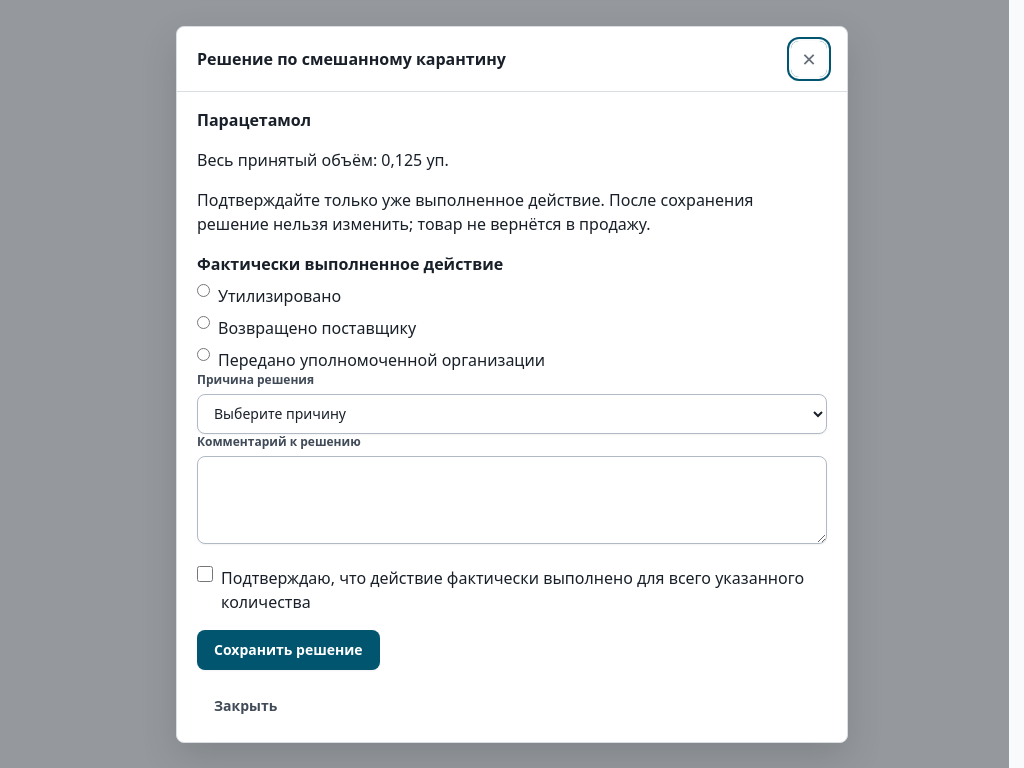
mixed disposition confirmation form › requires explicit whole-row confirmation and sends exact normalized input and minimal reviewed snapshot
Expected: the text "Весь принятый объём: 0,125 уп." is shown, [197,148,449,170]
Click the radio button labelled "Утилизировано" at (204, 290), box [197,284,210,296]
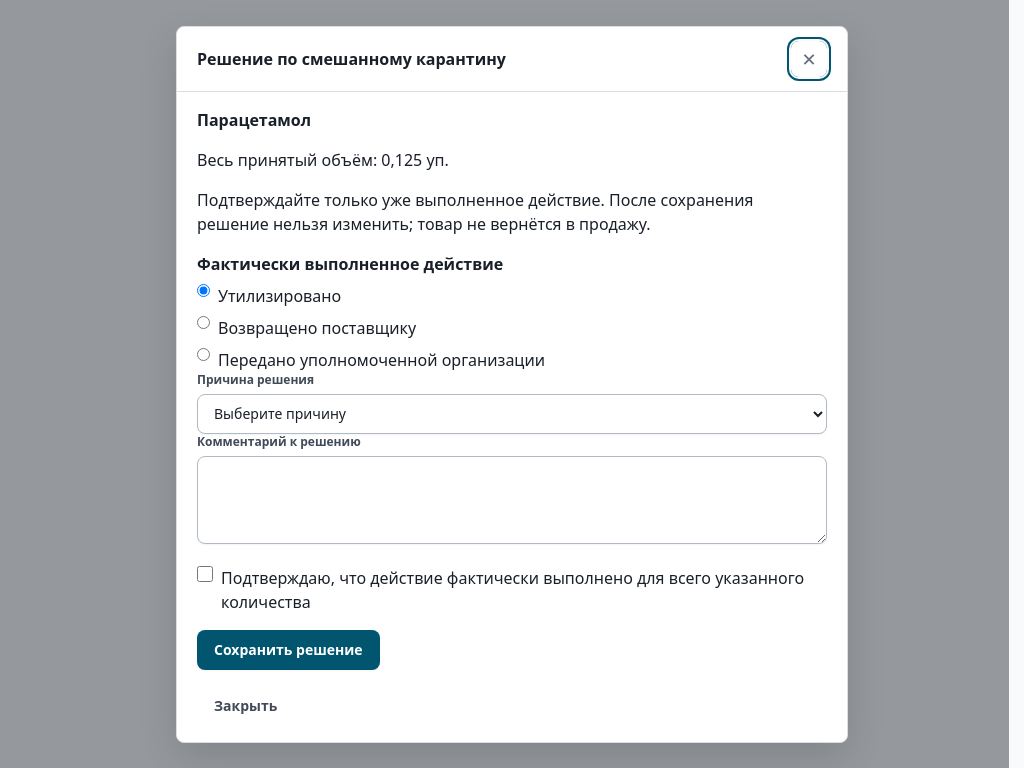
Select "Повреждение" in the dropdown labelled "Причина решения" at (512, 414), box [197,394,827,434]
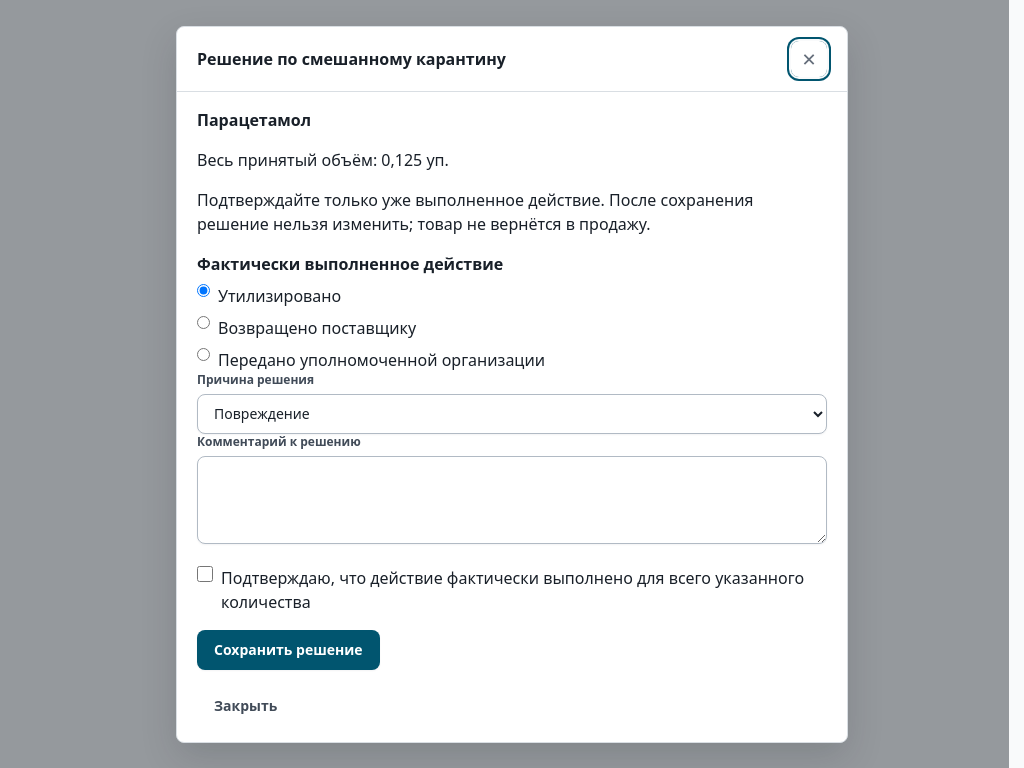
Type "  Фактически выполнено  " into the text box labelled "Комментарий к решению" at (512, 500), box [197,456,827,544]
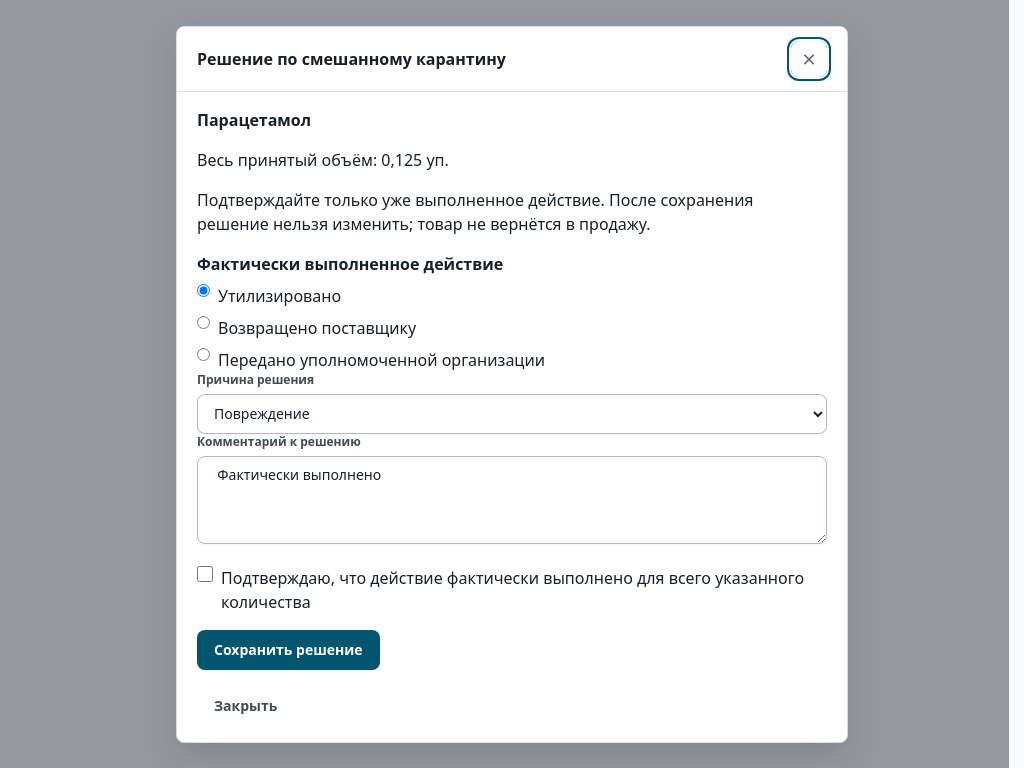
Click the button "Сохранить решение" at (288, 650), box [197,630,380,670]
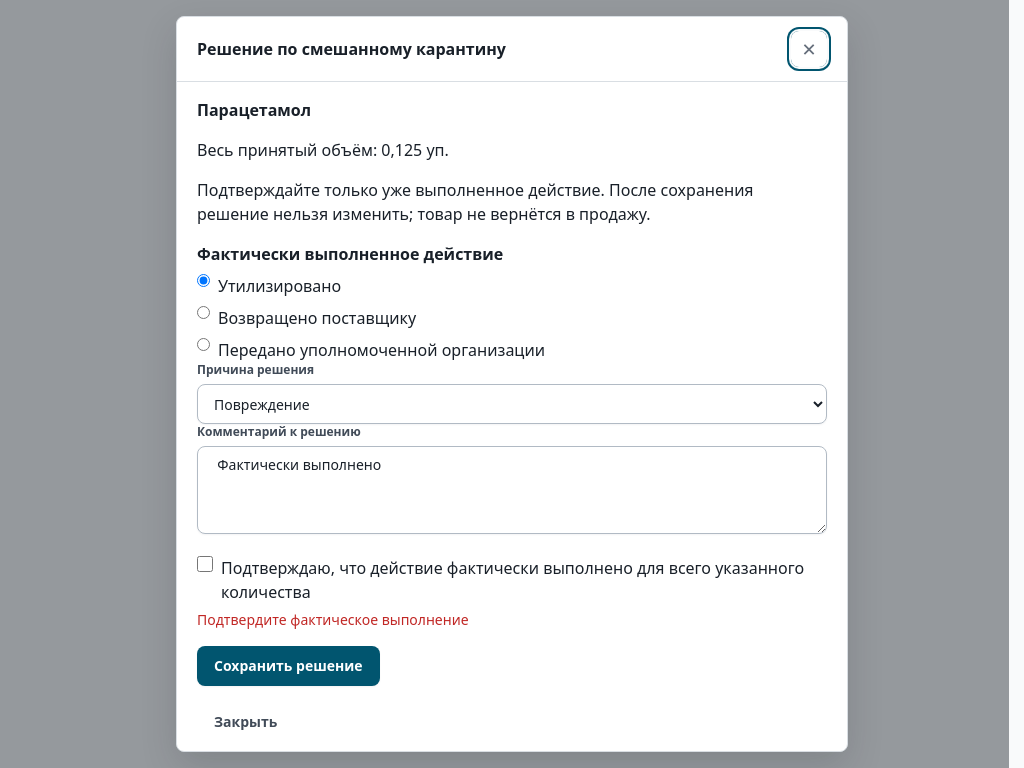
Expected: the text "Подтвердите фактическое выполнение" is shown, [197,610,469,629]
Click the checkbox labelled "Подтверждаю, что действие" at (205, 564), box [197,556,213,572]
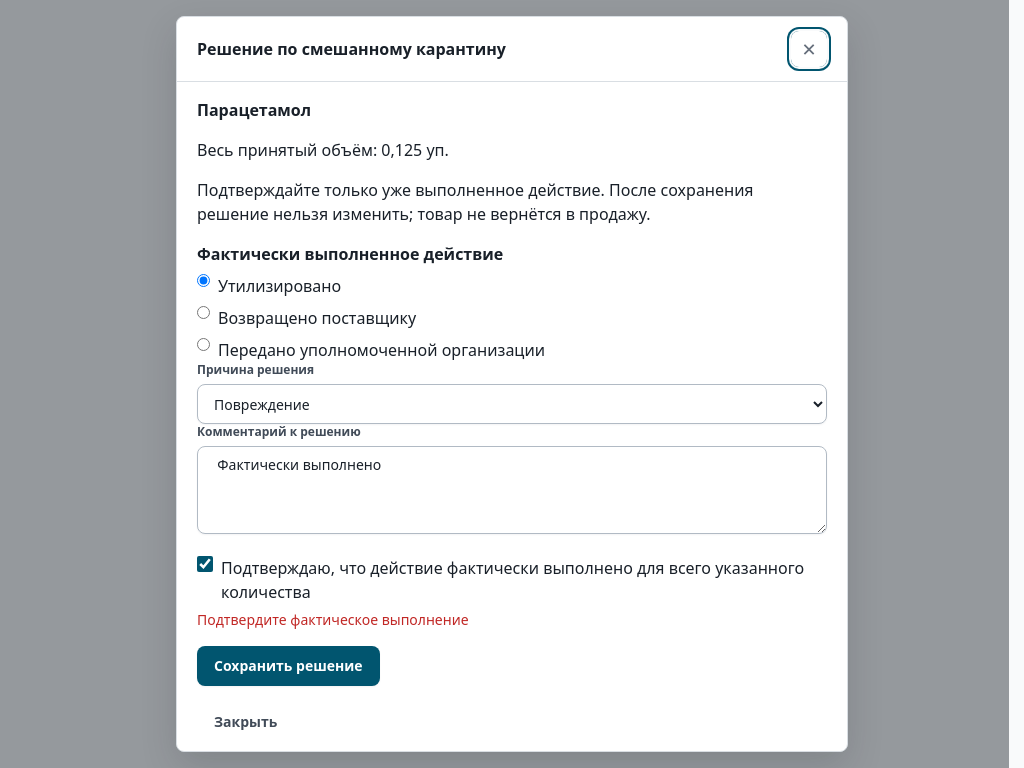
Click the button "Сохранить решение" at (288, 666), box [197,646,380,686]
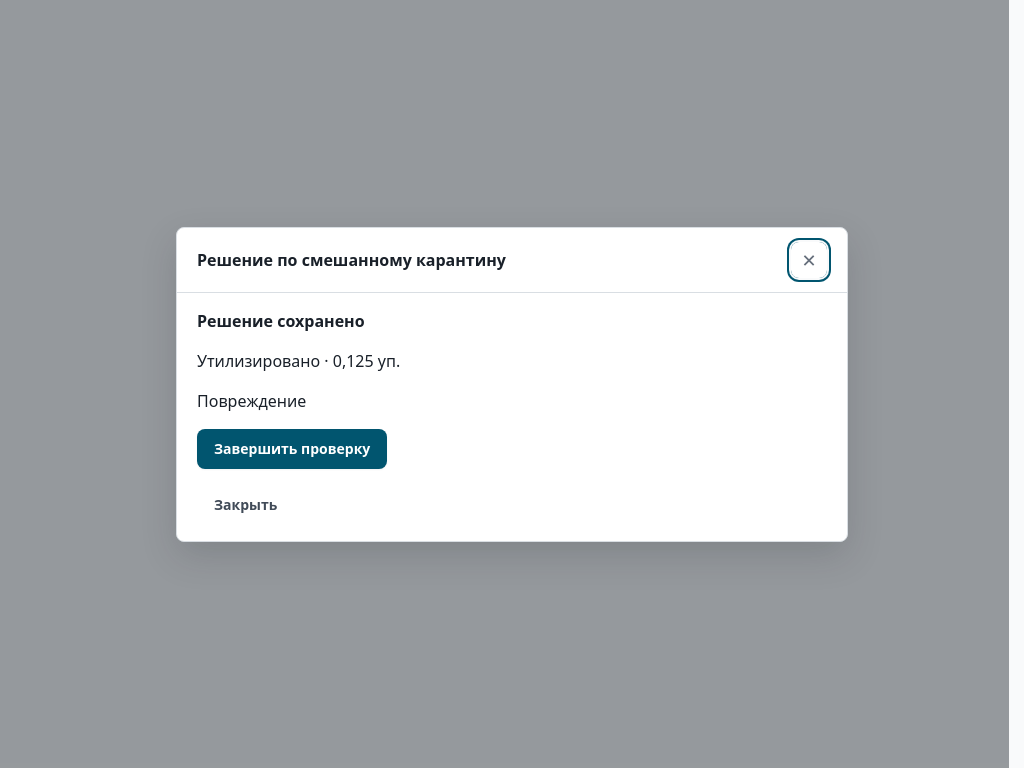
Expected: the text "Решение сохранено" is shown, [197,310,365,332]
